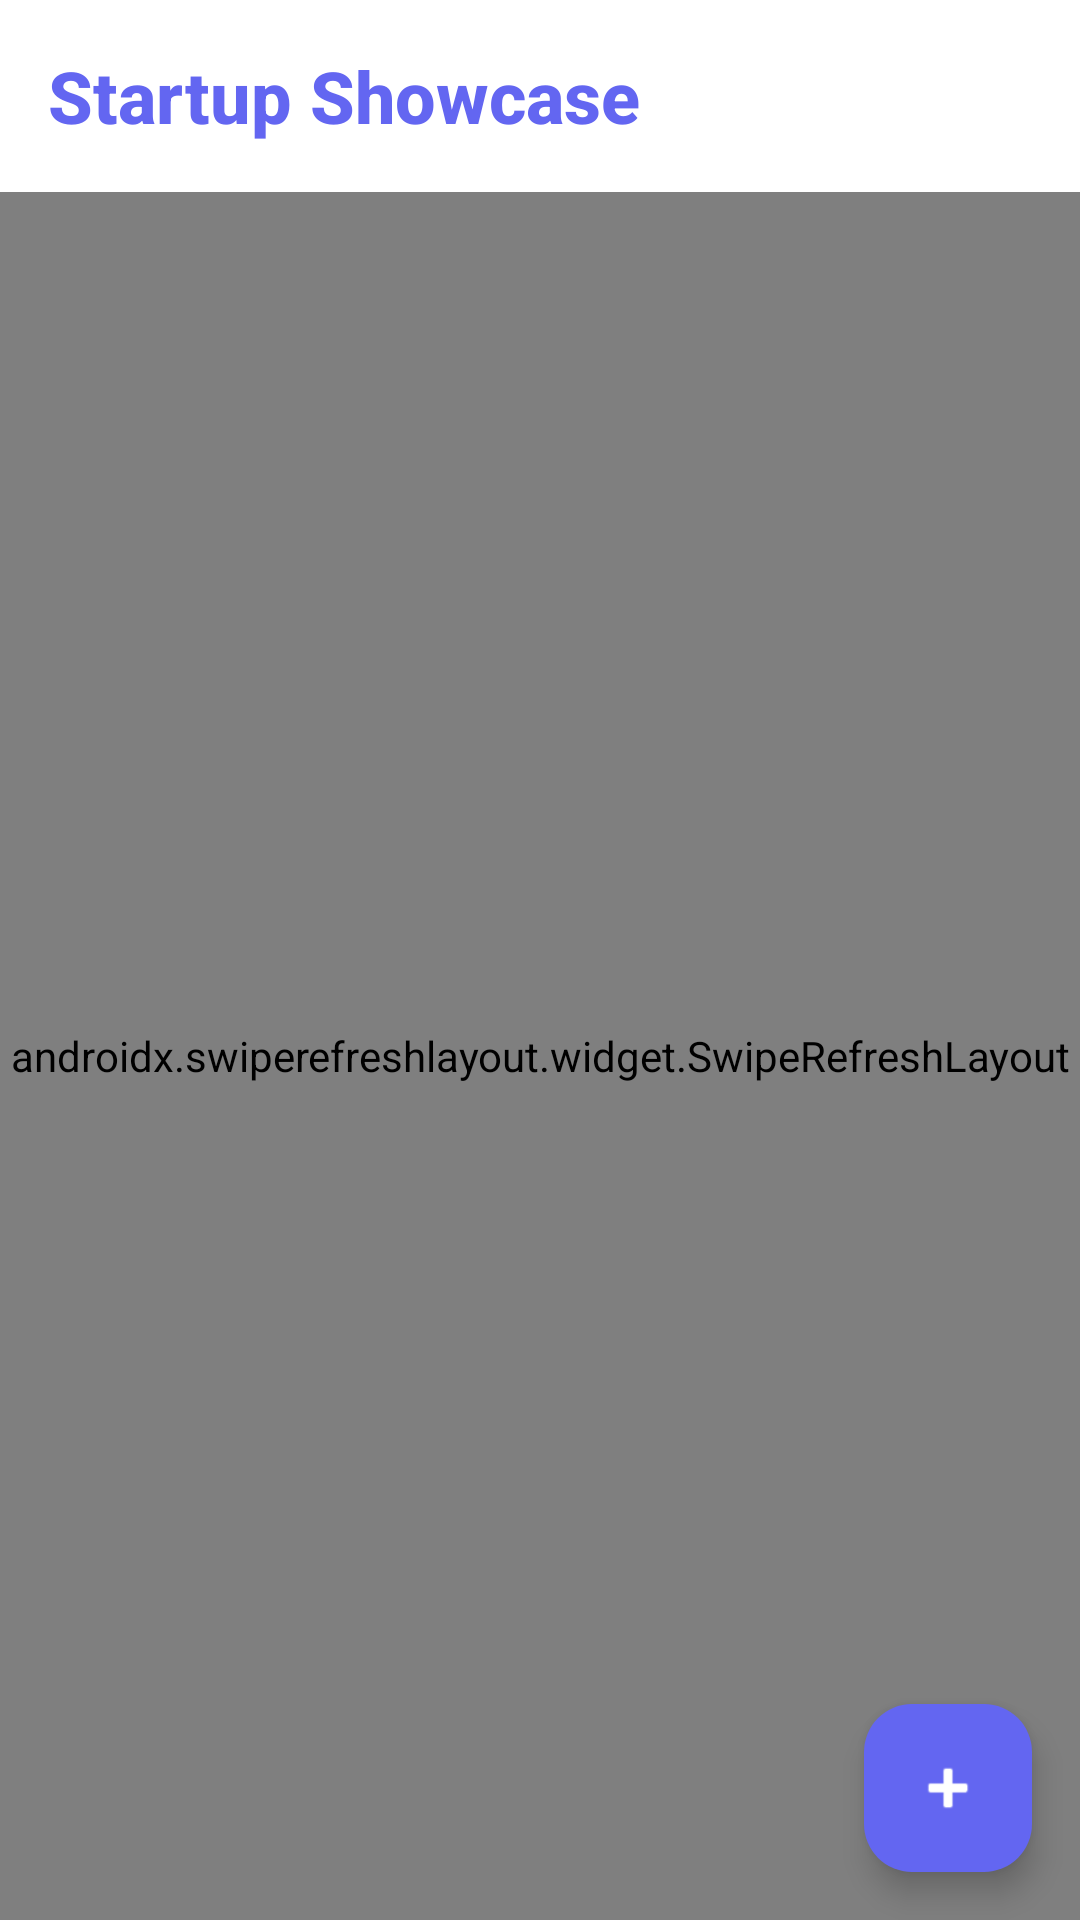

Icon click points for this 1080px x 1920px phone screenshot, format point (x, y):
Create Company: point (948, 1788)
